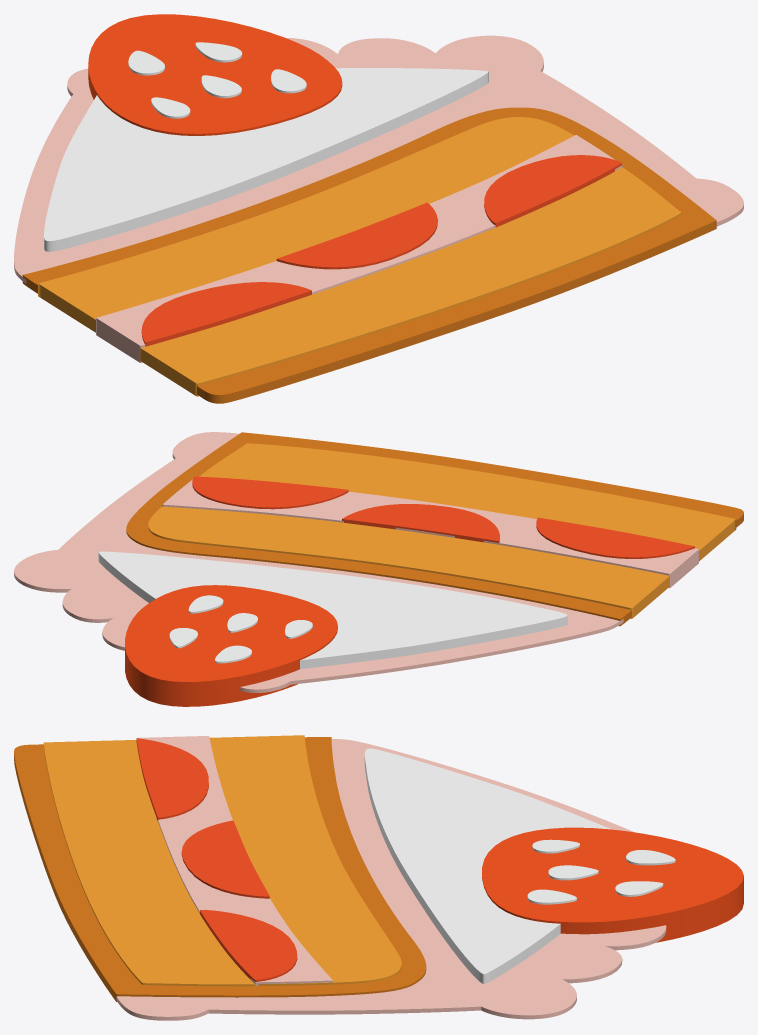
File: emoji_u1f370.glb
The picture shows the model from 3 angles, top to bottom: view 1: azimuth 30°, elevation 25°; view 2: azimuth 150°, elevation 25°; view 3: azimuth 270°, elevation 25°; orthographic projection. The views are drawn at different scales.
Visible parts, largest first — view 1: emoji_u1f370; view 2: emoji_u1f370; view 3: emoji_u1f370.
Part boxes in pixels (x1,y1,x2,y2): emoji_u1f370: (14,14,743,403); emoji_u1f370: (14,432,743,706); emoji_u1f370: (14,735,743,1020).
Bounding box in the file's own units: 0.0304 × 0.0016 × 0.0337.
